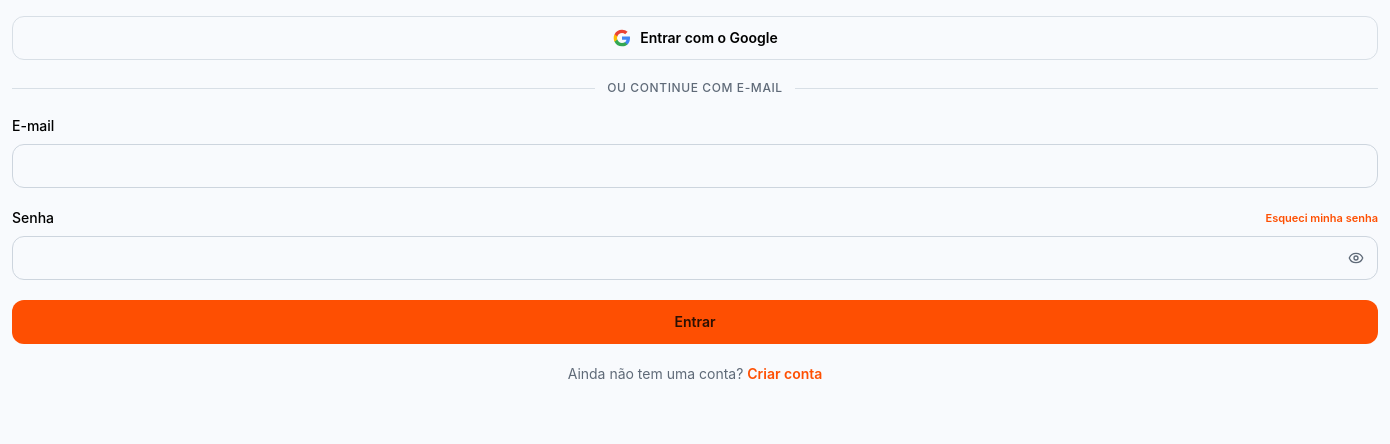
Test case: AuthForm › validates login fields and password visibility
The image size is (1390, 444).
Step 1. Click the button named "exibir senha" → x=1356, y=258, box [1334, 236, 1378, 280]
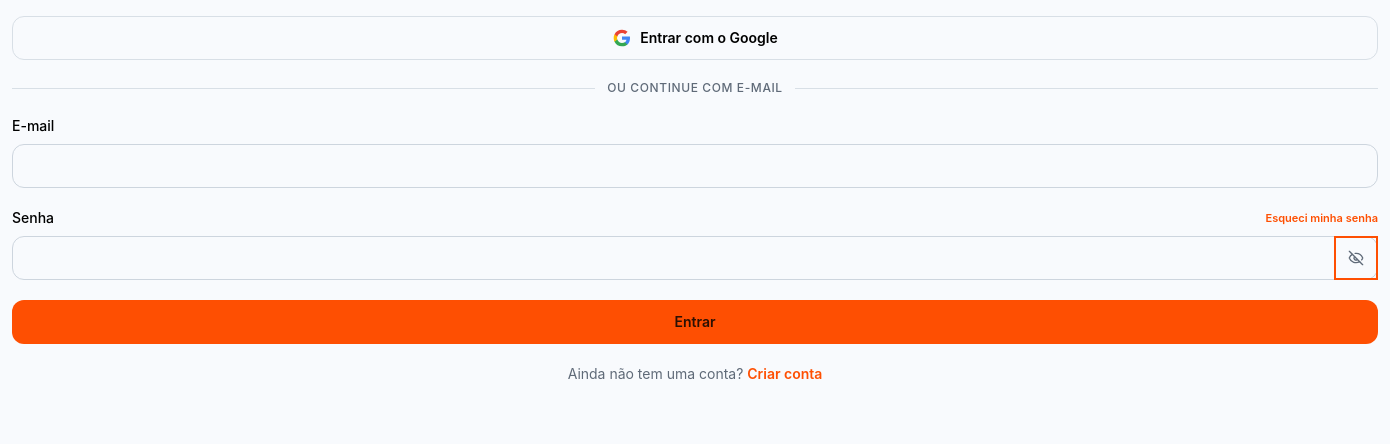
Step 2. Click the button "Entrar" → x=695, y=322, box [12, 300, 1378, 344]
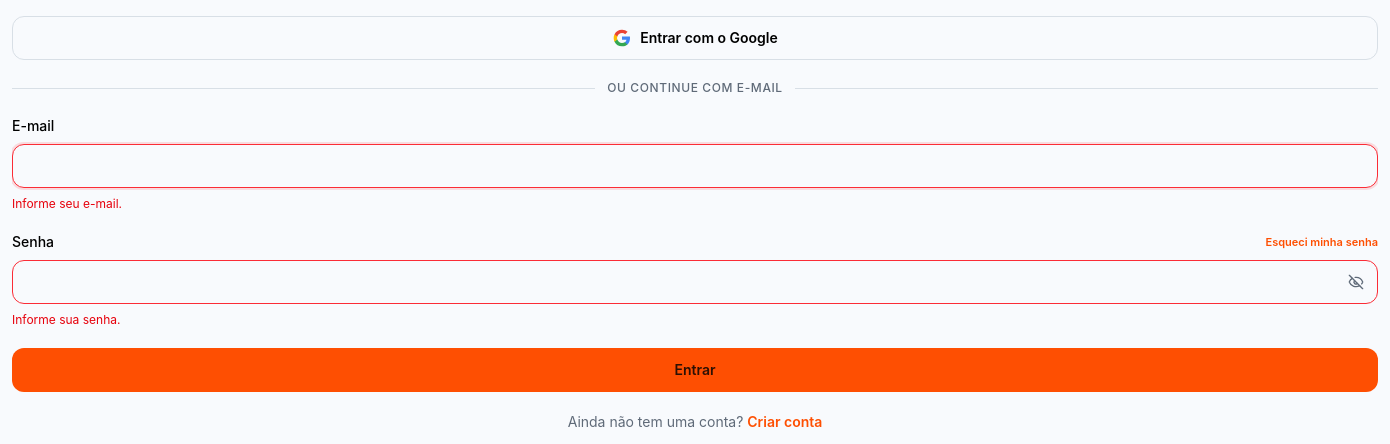
Now the text "Informe seu e-mail." is shown, box [12, 196, 122, 211]
Now the text "Informe sua senha." is shown, box [12, 312, 120, 327]
